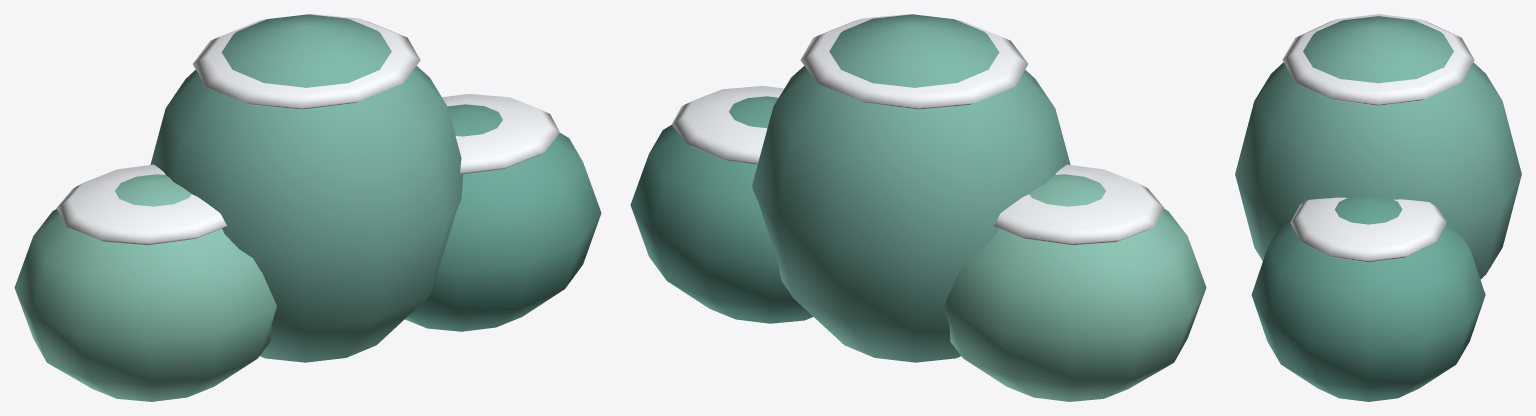
File: bush_mounded_winter.glb
The picture shows the model from 3 angles, left to right: view 1: azimuth 30°, elevation 25°; view 2: azimuth 150°, elevation 25°; view 3: azimuth 270°, elevation 25°; orthographic projection. The views are drawn at different scales.
Size of the model in its own units: 1.74 by 0.98 by 0.8701.
